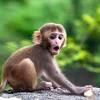monkey: (3, 12, 78, 97)
